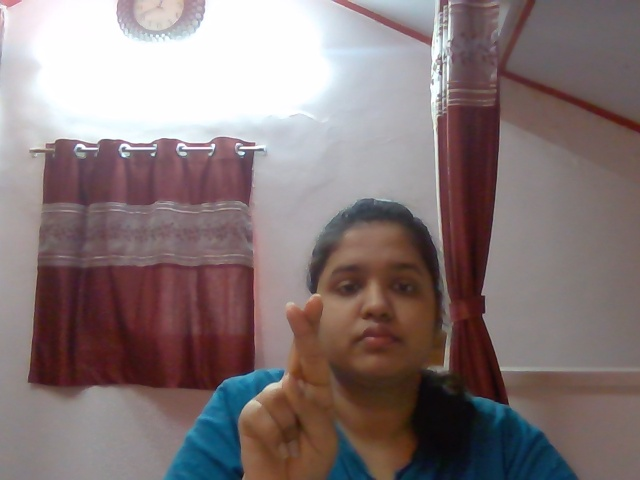r: (238, 288, 351, 472)
